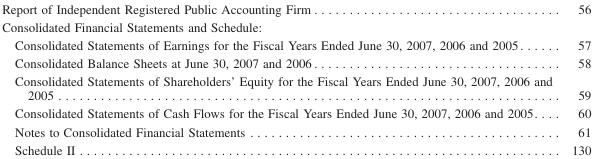table: (1, 1, 590, 156)
table column: (1, 1, 561, 156), (561, 1, 590, 156)
table projected row header: (1, 17, 590, 35)
table row: (1, 71, 590, 103), (1, 103, 590, 122), (1, 17, 590, 35), (1, 35, 590, 53), (1, 53, 590, 71), (1, 122, 590, 140), (1, 1, 590, 17), (1, 140, 590, 156)
